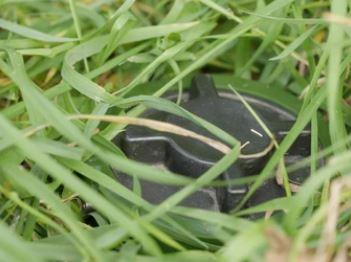pmn: (69, 73, 351, 262)
